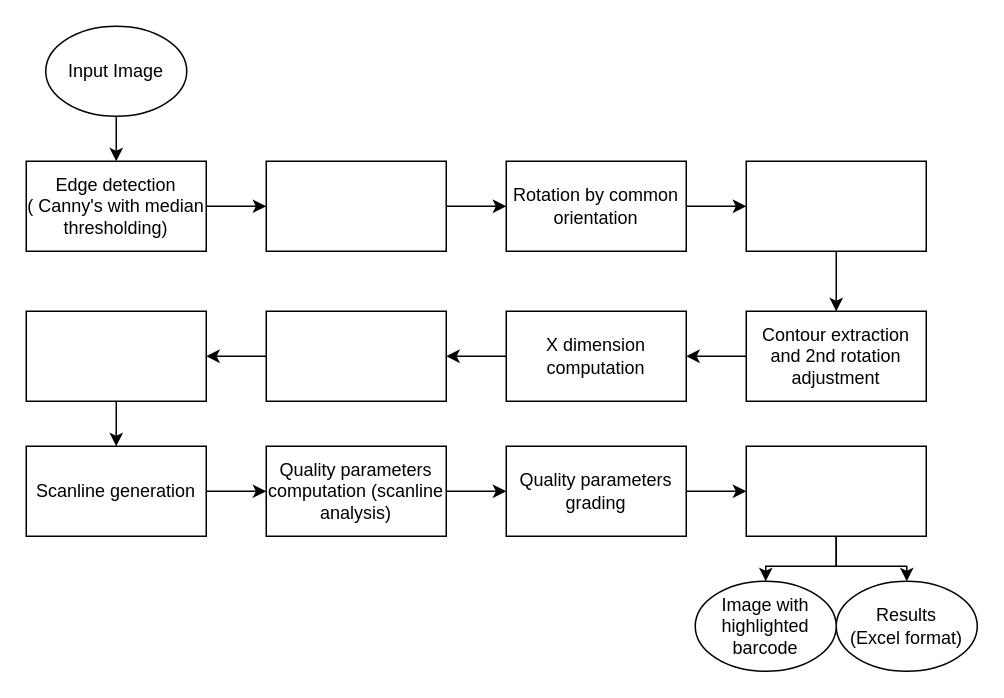
This 1004x698 diagram has some shape labels left out. The centre of each missing label's shape, as x and y in pixels:
Final bounding box (Quiet Zone): (355,355)
Line detection (Hough transform): (355,205)
Output data processing: (835,490)
Removal of text elements (Adaptive resizing): (115,355)
ROI extraction (Binary morphology): (835,205)
